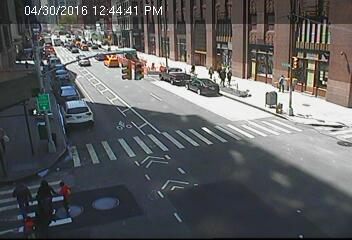neg: (170, 107, 198, 144), (210, 99, 233, 129), (313, 93, 333, 120), (116, 142, 136, 169), (178, 164, 197, 190), (225, 168, 243, 193), (29, 46, 47, 71), (134, 66, 152, 90), (231, 122, 249, 146), (135, 203, 153, 227), (112, 38, 130, 61), (132, 14, 150, 37), (111, 88, 128, 112), (190, 17, 207, 40), (65, 41, 82, 63), (247, 29, 263, 51), (274, 134, 290, 156), (313, 41, 329, 62), (23, 102, 37, 122), (109, 187, 123, 206), (154, 165, 168, 183), (91, 151, 105, 169), (306, 134, 319, 152), (20, 17, 33, 34), (151, 55, 163, 72), (299, 176, 311, 192)
pos: (6, 174, 35, 213), (51, 179, 77, 214), (33, 178, 57, 210), (272, 73, 291, 98), (222, 66, 237, 85), (216, 65, 230, 83), (186, 61, 199, 78), (204, 63, 216, 80), (23, 213, 33, 226), (23, 56, 30, 66)
